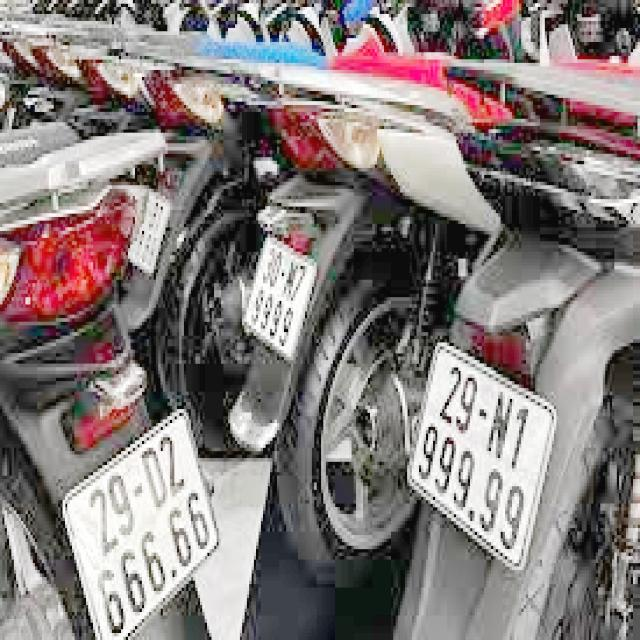license_plate: (66, 412, 223, 640), (409, 345, 558, 574), (242, 238, 317, 360)
